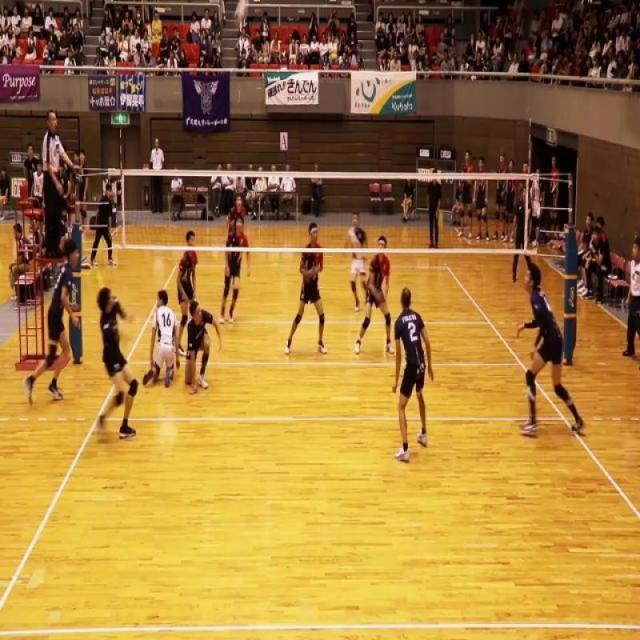volleyball: (233, 0, 250, 25)
